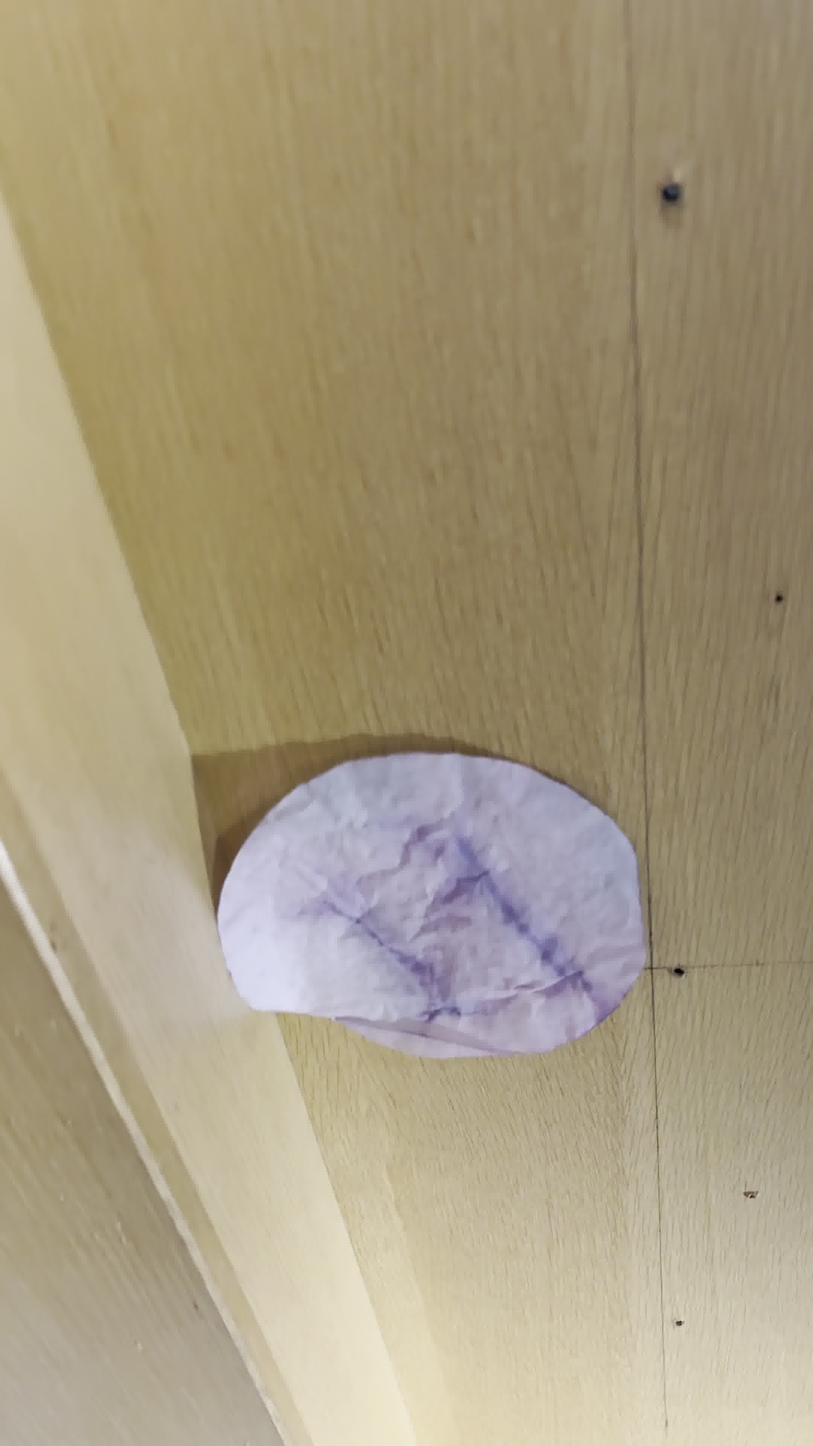Target: (218, 752, 654, 1061)
